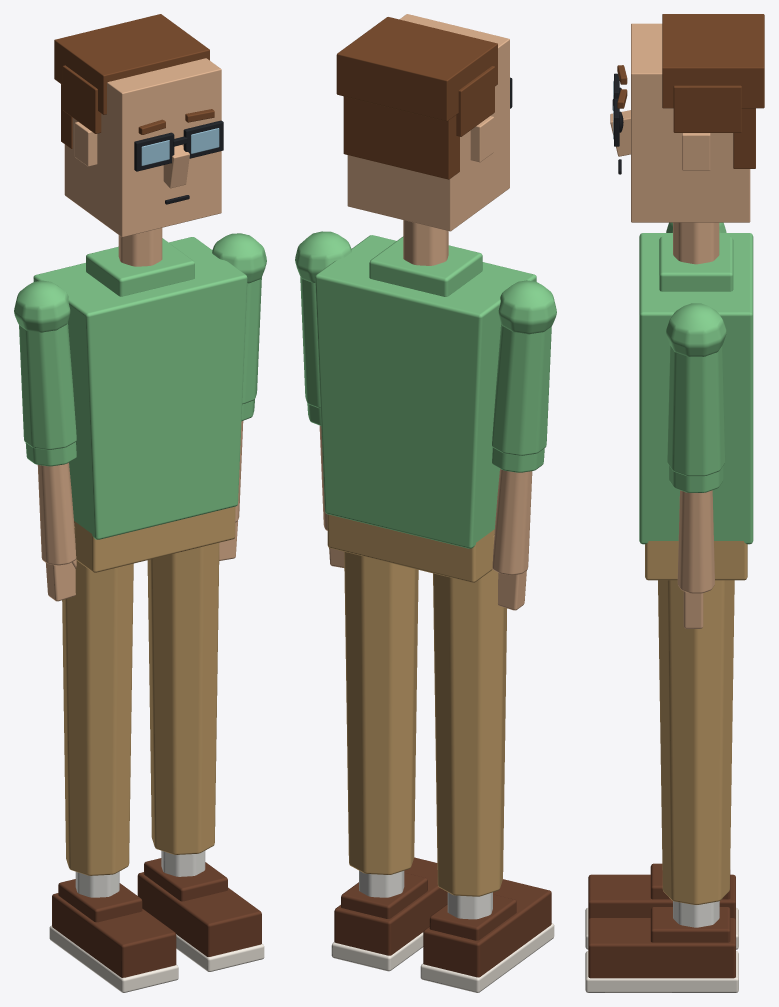
File: Diner_B.glb
3 renders of one model, left to right at view 1: azimuth 30°, elevation 25°; view 2: azimuth 150°, elevation 25°; view 3: azimuth 270°, elevation 25°, orthographic. The views are drawn at different scales.
Visible parts, largest first — view 1: Diner_B_Torso, Diner_B_Head, Diner_B_LegL, Diner_B_LegR, Diner_B_ArmL, Diner_B_ForearmL, Diner_B_ArmR, Diner_B_ForearmR; view 2: Diner_B_Torso, Diner_B_LegL, Diner_B_Head, Diner_B_LegR, Diner_B_ArmL, Diner_B_ForearmL, Diner_B_ArmR, Diner_B_ForearmR; view 3: Diner_B_LegR, Diner_B_Head, Diner_B_Torso, Diner_B_ArmR, Diner_B_ForearmR, Diner_B_LegL.
Boxes of the visible parts, x1=… form: Diner_B_Torso: x1=33, y1=228, x2=247, y2=572; Diner_B_Head: x1=54, y1=14, x2=223, y2=237; Diner_B_LegL: x1=49, y1=526, x2=178, y2=992; Diner_B_LegR: x1=137, y1=543, x2=264, y2=971; Diner_B_ArmL: x1=14, y1=280, x2=76, y2=449; Diner_B_ForearmL: x1=25, y1=442, x2=76, y2=601; Diner_B_ArmR: x1=212, y1=233, x2=266, y2=404; Diner_B_ForearmR: x1=219, y1=399, x2=254, y2=560; Diner_B_Torso: x1=315, y1=220, x2=536, y2=582; Diner_B_LegL: x1=420, y1=535, x2=554, y2=992; Diner_B_Head: x1=336, y1=14, x2=512, y2=231; Diner_B_LegR: x1=331, y1=552, x2=447, y2=971; Diner_B_ArmL: x1=492, y1=280, x2=556, y2=455; Diner_B_ForearmL: x1=492, y1=447, x2=544, y2=610; Diner_B_ArmR: x1=295, y1=231, x2=351, y2=408; Diner_B_ForearmR: x1=307, y1=403, x2=344, y2=567; Diner_B_LegR: x1=585, y1=580, x2=738, y2=992; Diner_B_Head: x1=610, y1=14, x2=764, y2=222; Diner_B_Torso: x1=639, y1=222, x2=753, y2=580; Diner_B_ArmR: x1=666, y1=303, x2=726, y2=476; Diner_B_ForearmR: x1=669, y1=465, x2=723, y2=628; Diner_B_LegL: x1=585, y1=863, x2=738, y2=949.
Size of the model in its own units: 0.5128 by 1.78 by 0.315.
